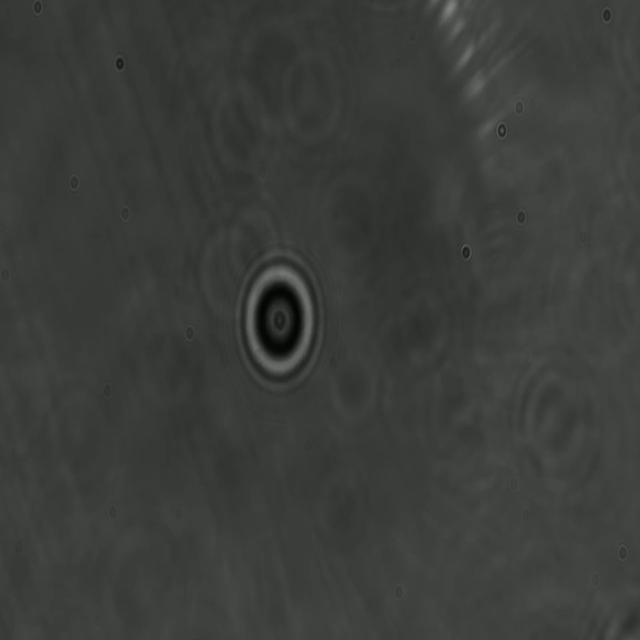LCELL: (231, 243, 329, 397)
